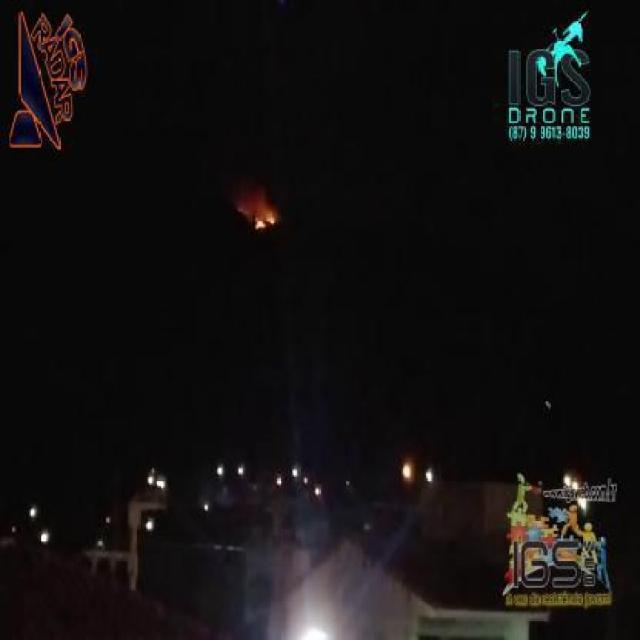Fire: (244, 198, 278, 231)
